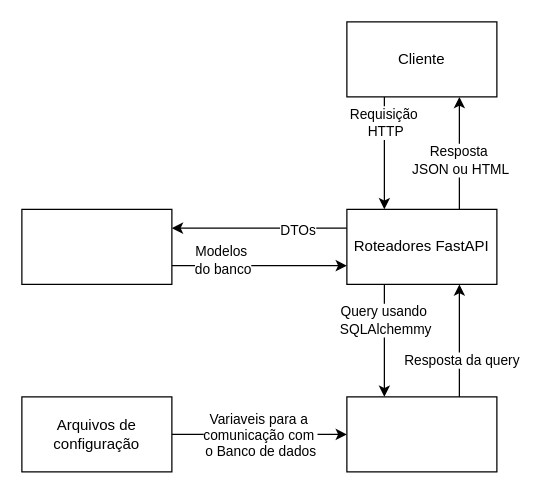
Some shapes in this 540 by 494 pixel diagram are drawn without their labels. The centre of each missing label's shape, as x and y in pixels:
Banco de dados SQLite: point (421, 434)
Modelagem e regras de negocio: point (96, 246)
